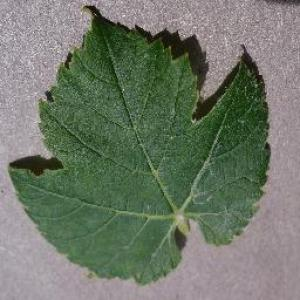Folha: (7, 2, 271, 286)
